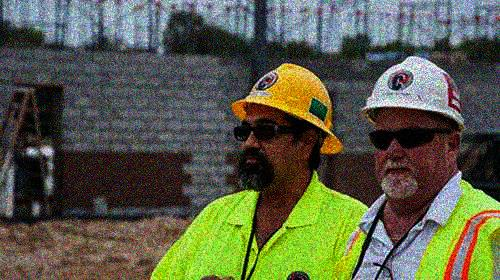helmet: (228, 60, 345, 189), (360, 57, 466, 197)
